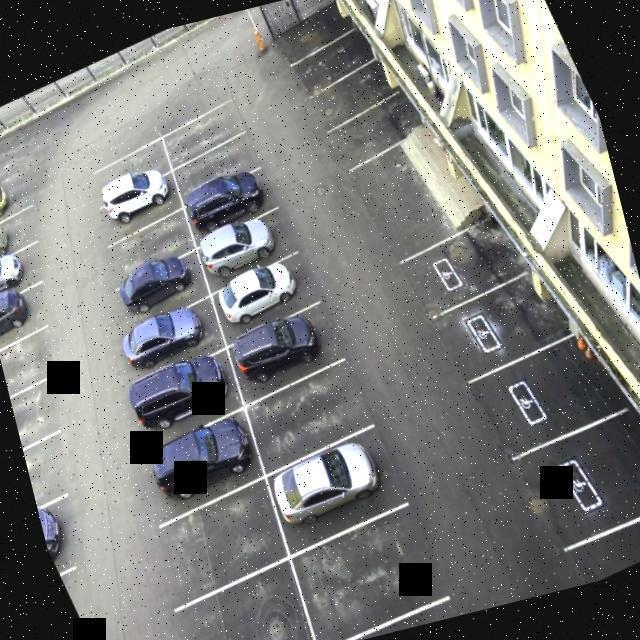space-empty: (497, 384, 640, 568), (455, 315, 627, 464), (275, 496, 451, 640), (131, 471, 303, 616), (229, 352, 387, 476), (419, 260, 568, 383), (383, 212, 527, 319), (151, 557, 324, 640), (315, 87, 432, 173), (292, 50, 409, 136), (102, 203, 202, 283), (279, 24, 384, 99), (150, 96, 251, 171), (168, 131, 269, 204), (19, 422, 88, 516), (86, 132, 176, 200), (7, 372, 73, 453), (0, 327, 68, 400)
space-occupied: (258, 420, 408, 547), (133, 405, 269, 522), (219, 297, 355, 411), (113, 340, 248, 447), (108, 285, 234, 388), (187, 201, 309, 295), (213, 248, 324, 343), (181, 163, 288, 248), (105, 244, 210, 325), (94, 167, 187, 246), (0, 278, 58, 350), (35, 494, 82, 578), (0, 238, 49, 308), (0, 207, 40, 270), (0, 170, 37, 235)
